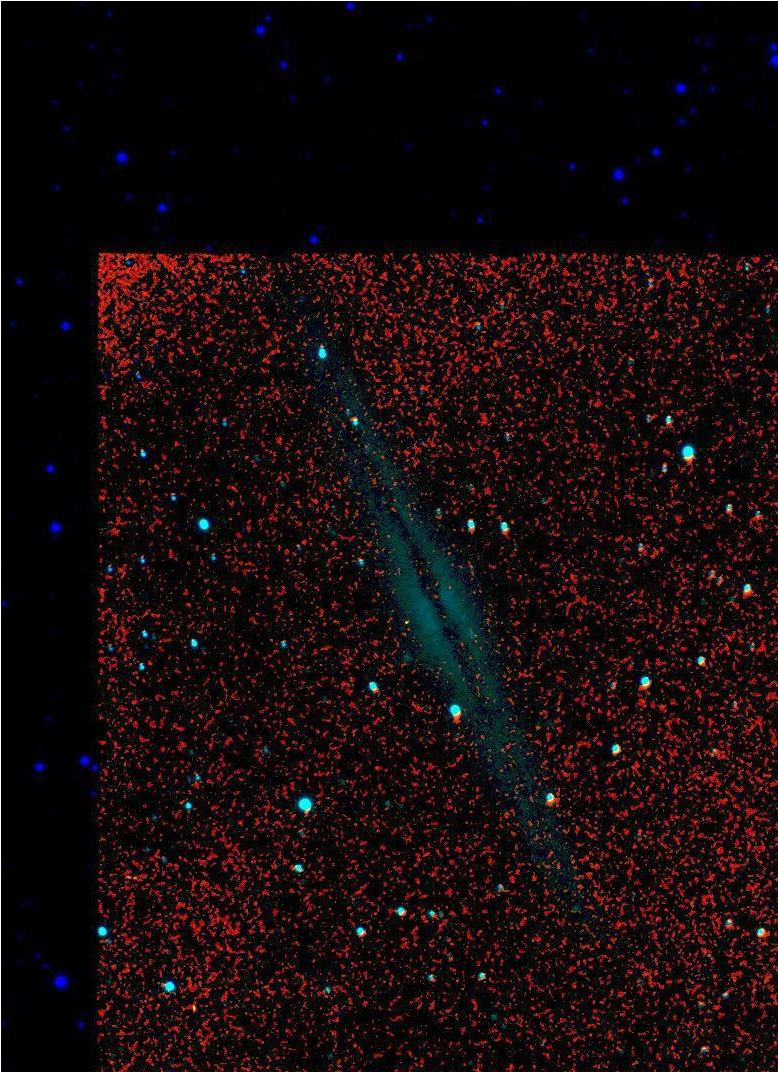star: (392, 611, 422, 641)
